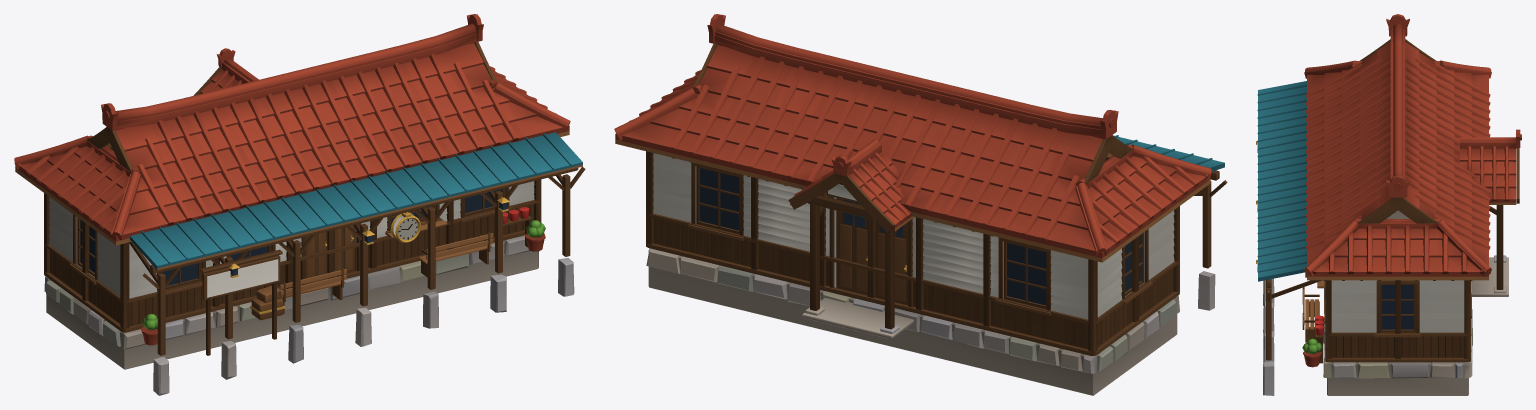
File: station.glb
3 renders of one model, left to right at view 1: azimuth 30°, elevation 25°; view 2: azimuth 150°, elevation 25°; view 3: azimuth 270°, elevation 25°, orthographic. The views are drawn at different scales.
Visible parts, largest first — view 1: Station Roof tile, Station Wood, Station Clapboard, Station Canopy tin, Station Window glow, Station Brass; view 2: Station Roof tile, Station Wood, Station Clapboard, Station Window glow, Station Canopy tin; view 3: Station Roof tile, Station Clapboard, Station Wood, Station Canopy tin, Station Window glow.
Part boxes in pixels (x1,y1,x2,y2): Station Roof tile: [14, 14, 570, 345]; Station Wood: [15, 41, 585, 355]; Station Clapboard: [44, 181, 574, 395]; Station Canopy tin: [130, 132, 582, 269]; Station Window glow: [80, 189, 507, 285]; Station Brass: [229, 196, 509, 314]; Station Roof tile: [614, 14, 1211, 258]; Station Wood: [615, 43, 1227, 355]; Station Clapboard: [646, 153, 1215, 395]; Station Window glow: [699, 168, 1140, 305]; Station Canopy tin: [1113, 135, 1224, 171]; Station Roof tile: [1303, 14, 1521, 367]; Station Clapboard: [1263, 210, 1508, 395]; Station Wood: [1266, 39, 1519, 363]; Station Canopy tin: [1257, 81, 1306, 281]; Station Window glow: [1257, 145, 1413, 329].
Size of the model in its own units: 13.16 by 6.37 by 7.3.
